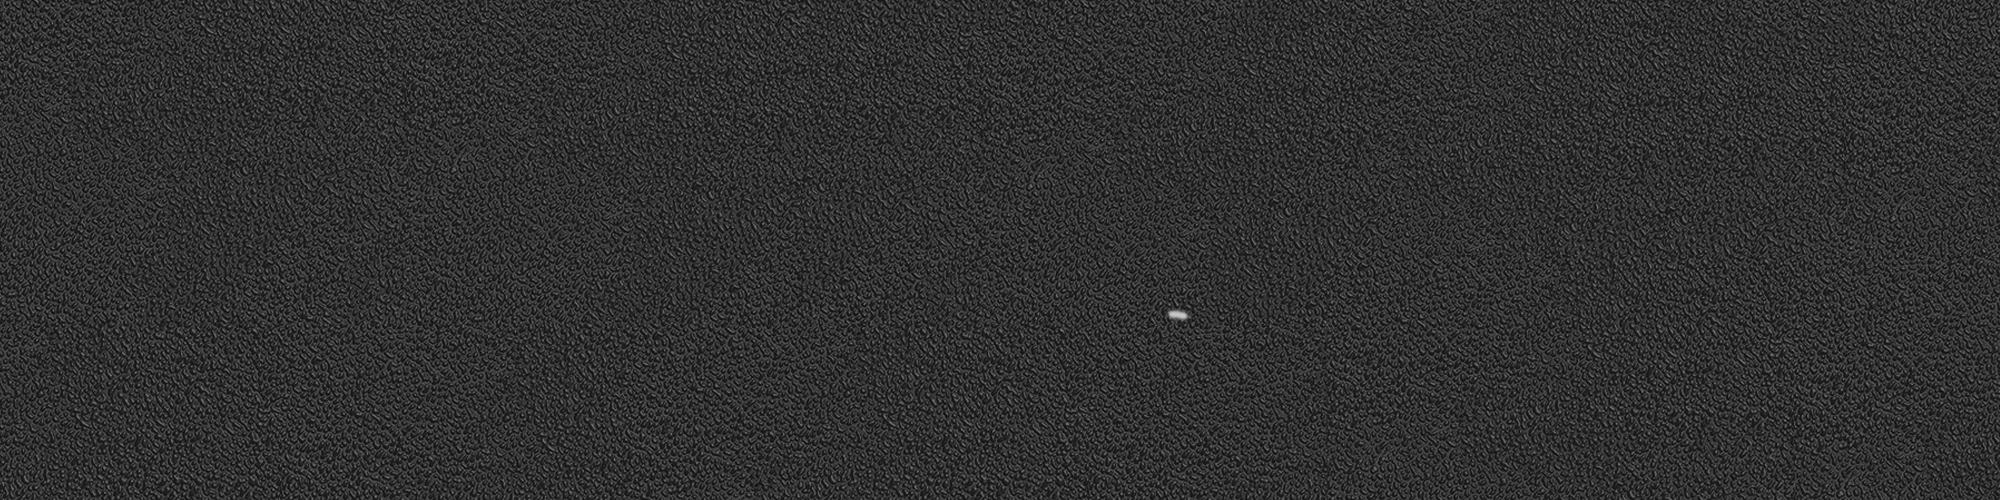Particles: (1165, 307, 1193, 327)
